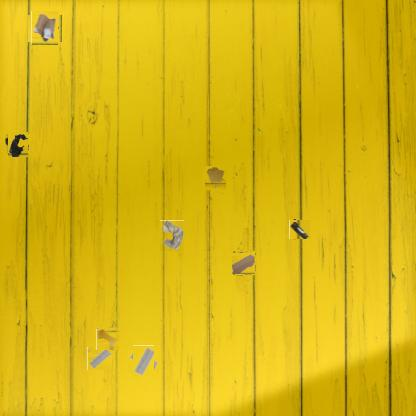dirty: (30, 13, 60, 44), (160, 220, 184, 251), (130, 348, 157, 374), (88, 346, 112, 371), (7, 132, 29, 156), (233, 252, 255, 275), (289, 219, 310, 239)
liquid: (204, 167, 227, 189), (97, 328, 119, 351)
